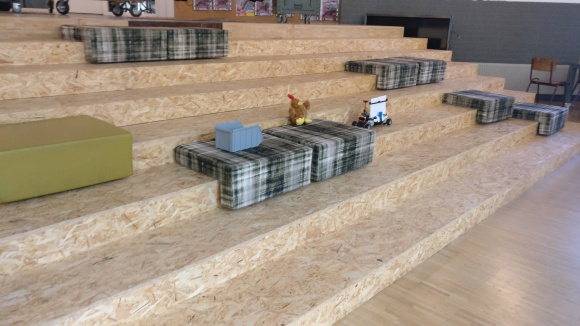car: (353, 95, 393, 130)
chicken: (286, 90, 313, 126)
tray: (213, 118, 263, 153)
